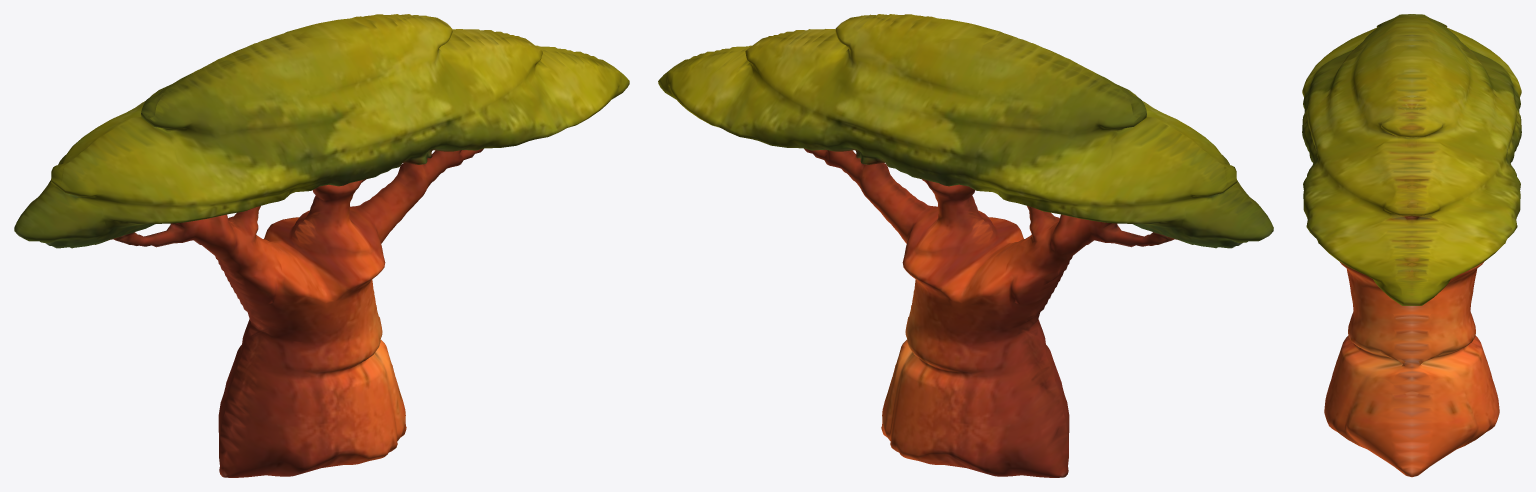
Rendered from 03_baobab_trees_r01_c00.glb.
3 renders of one model, left to right at view 1: azimuth 30°, elevation 25°; view 2: azimuth 150°, elevation 25°; view 3: azimuth 270°, elevation 25°, orthographic. The views are drawn at different scales.
Parts seen in each view (by area): view 1: 03_baobab_trees_r01_c00; view 2: 03_baobab_trees_r01_c00; view 3: 03_baobab_trees_r01_c00.
Part boxes in pixels (bbox=[...]): 03_baobab_trees_r01_c00: bbox=[14, 14, 629, 477]; 03_baobab_trees_r01_c00: bbox=[658, 14, 1273, 477]; 03_baobab_trees_r01_c00: bbox=[1302, 14, 1521, 477].
Size of the model in its own units: 4.07 by 2.7 by 1.39.
1 material, 1 textured.
